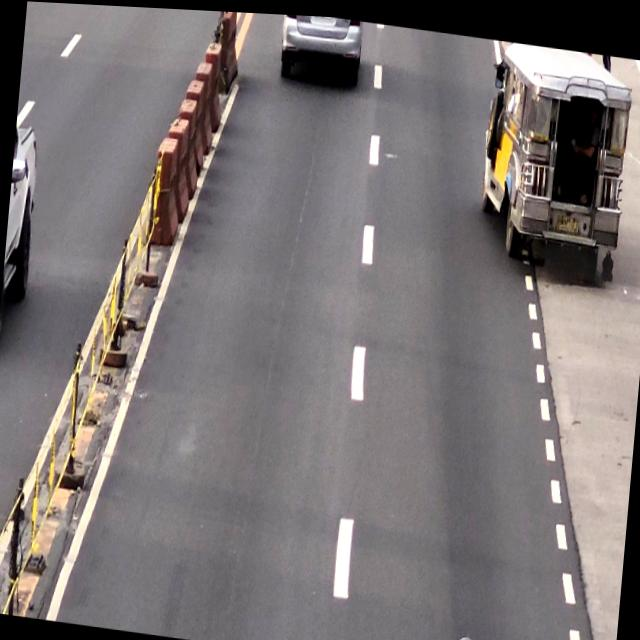Car: (276, 11, 365, 83)
Jeep: (476, 34, 636, 272)
License-Plate: (557, 210, 581, 228)
